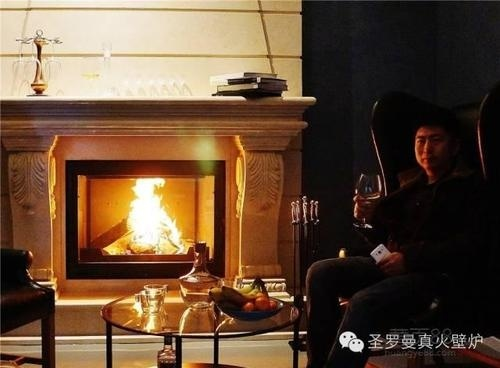fire: (125, 174, 183, 251)
